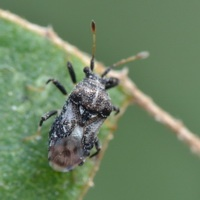insect: (48, 21, 148, 171)
